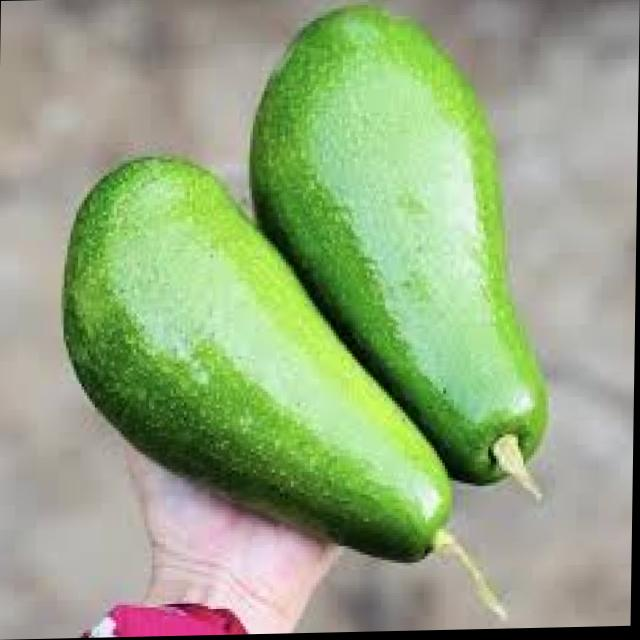Bo: (52, 151, 514, 622), (242, 7, 554, 486)
